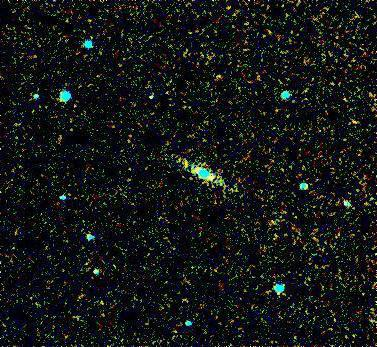star: (194, 162, 224, 192)
